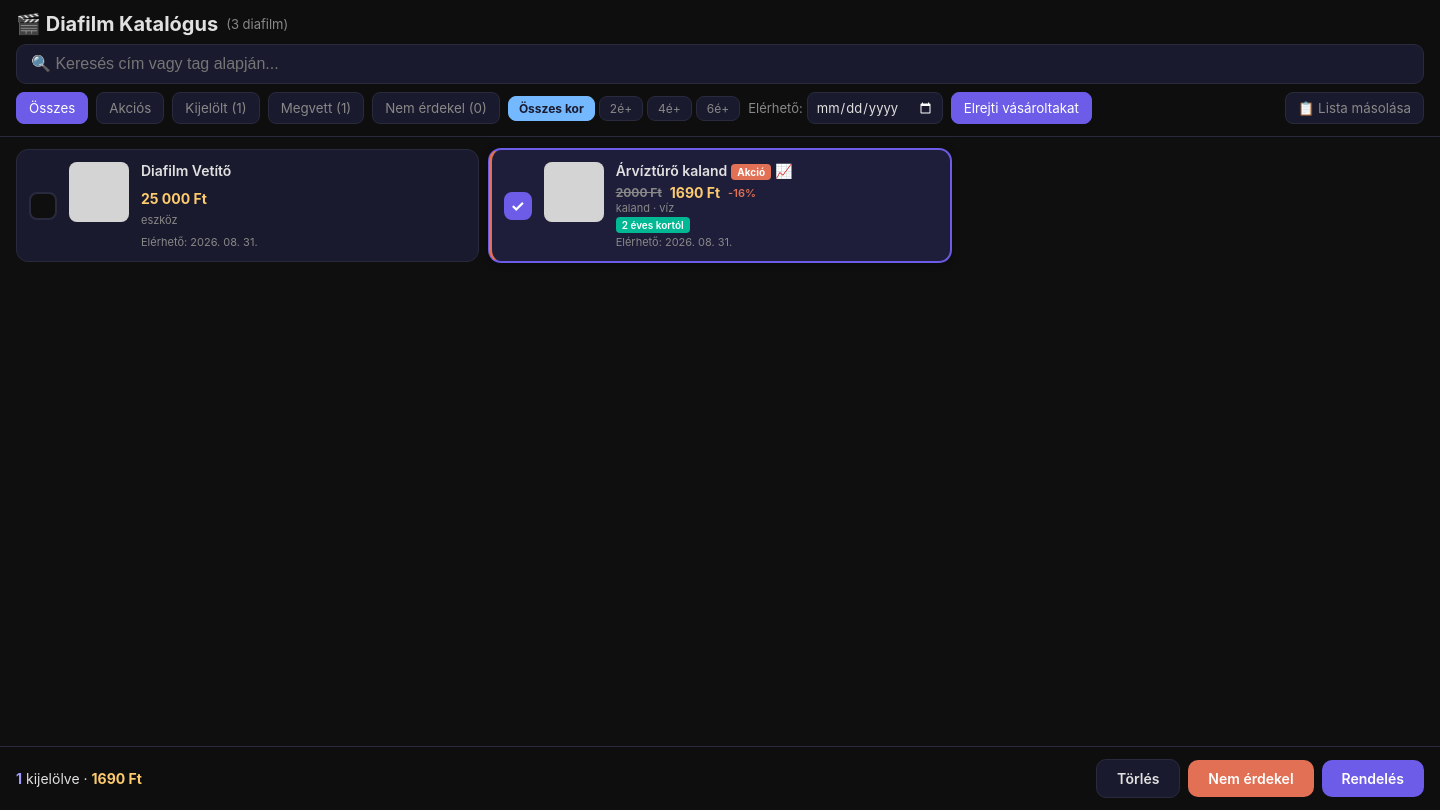
Test: App Integration › order modal opens when Rendelés button clicked
Click the button with test id "order-btn".
click(1373, 778)  # box [1322,760,1424,797]
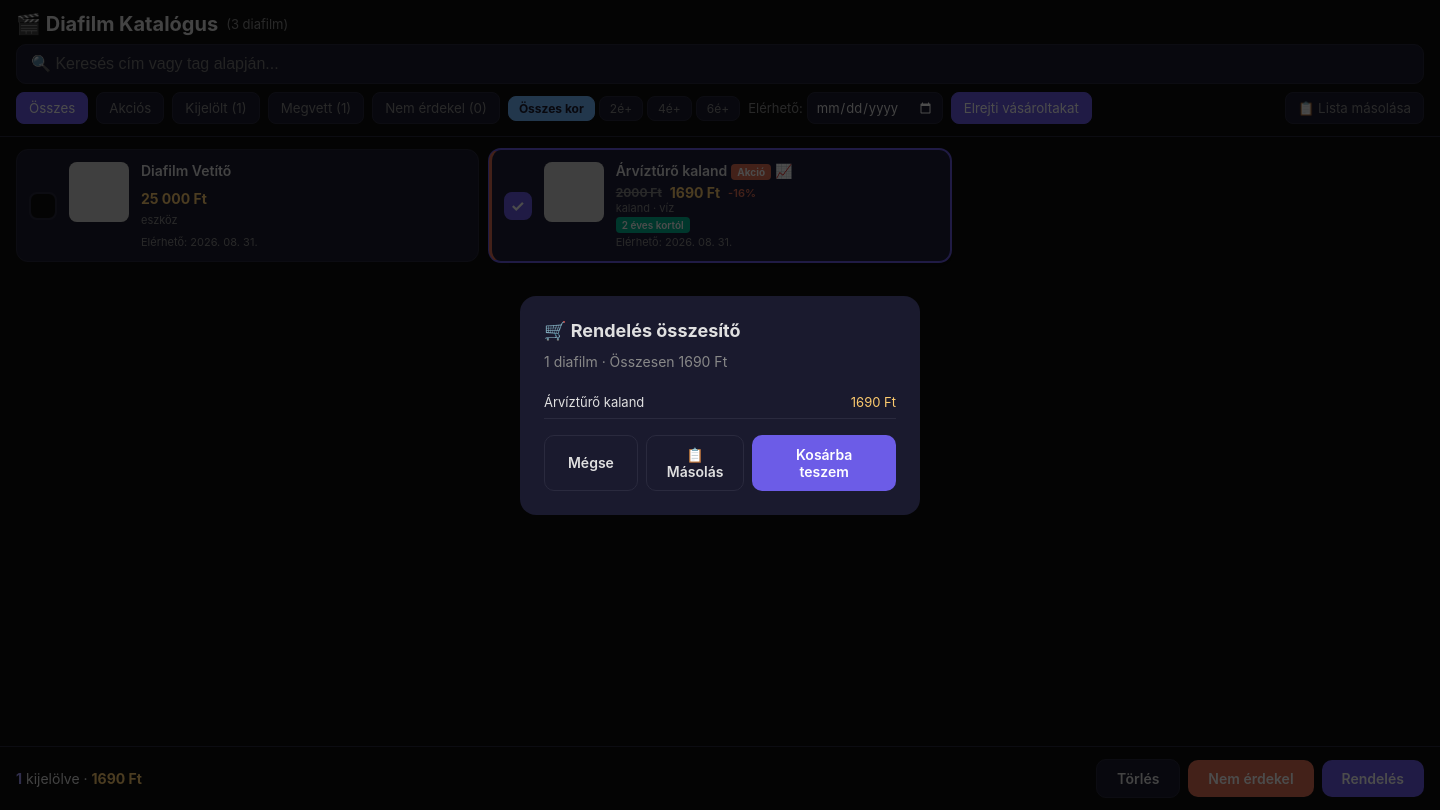
Check: the heading "🛒 Rendelés összesítő" is shown, box [544,320,740,340]
